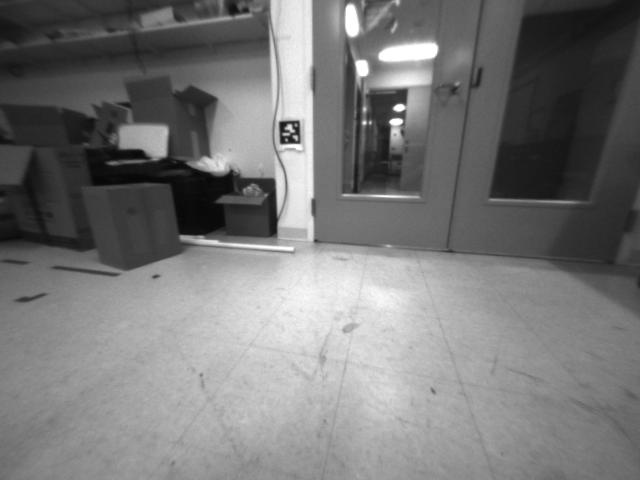door_handle: (428, 76, 460, 100)
